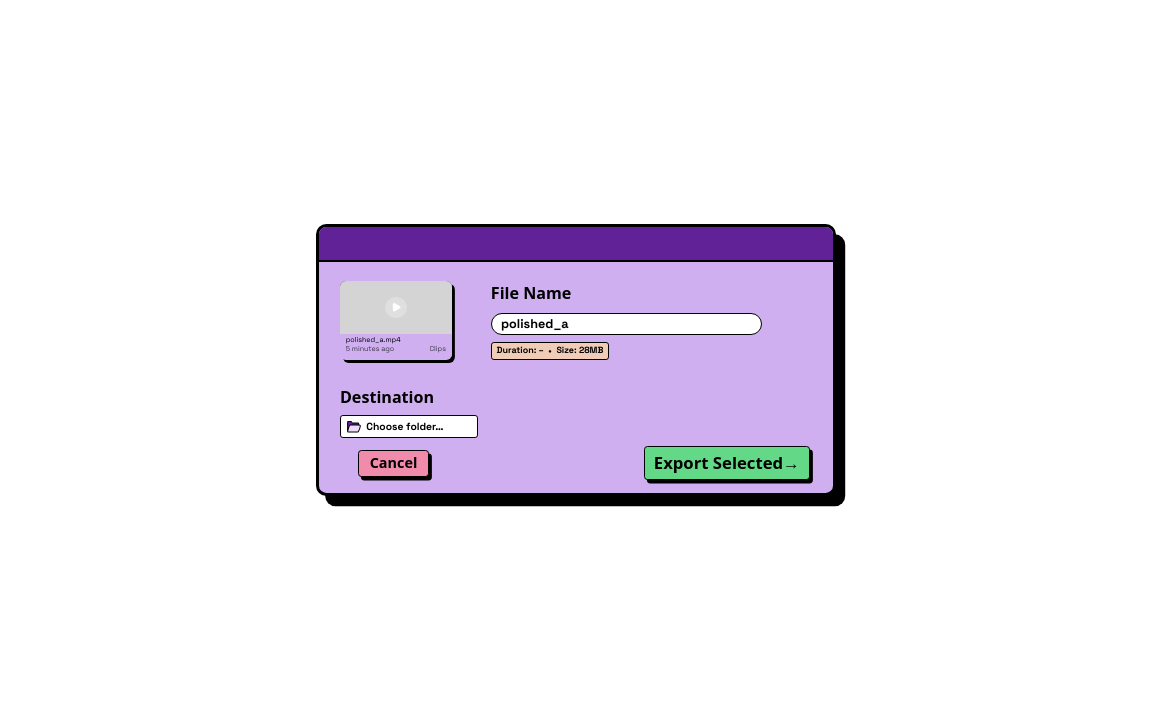
it: export dialog › stops and explains when a file with that name already exists
What coordinates should you click on to do the following:
click the button "Choose folder…"
I would click on:
 (409, 427)
Its box is [340,415,478,438].
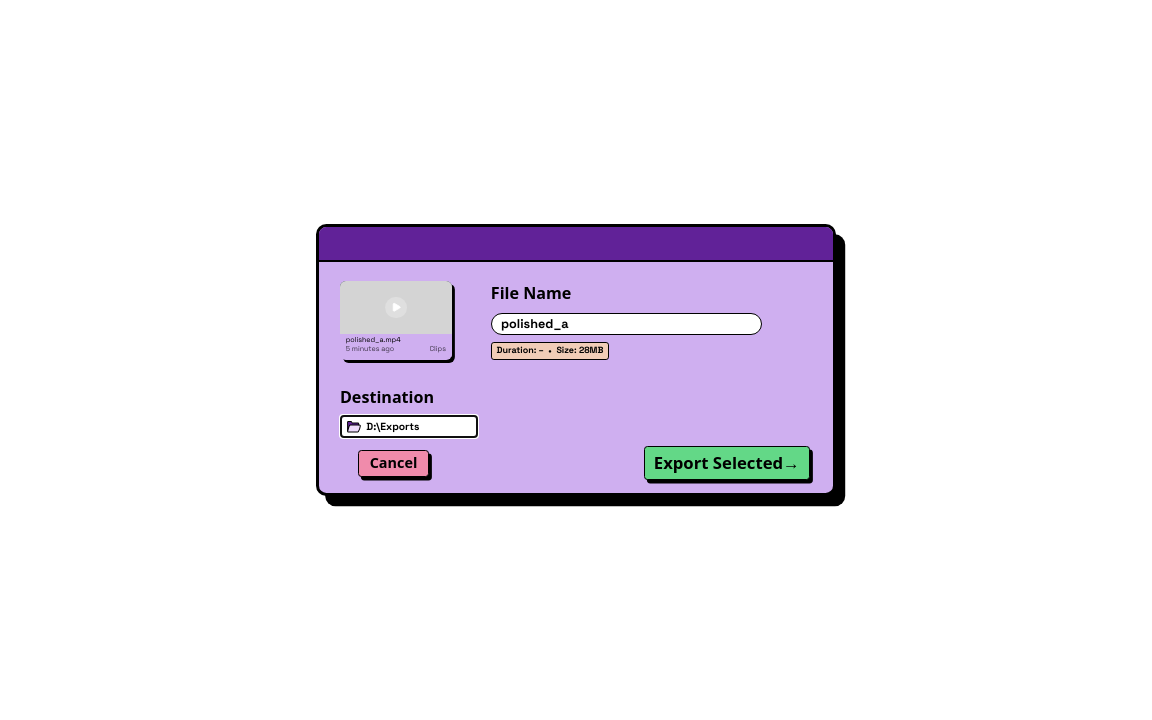
What coordinates should you click on to do the following:
click the button "Export Selected→"
I would click on:
 (727, 463)
Its box is [644,446,810,480].
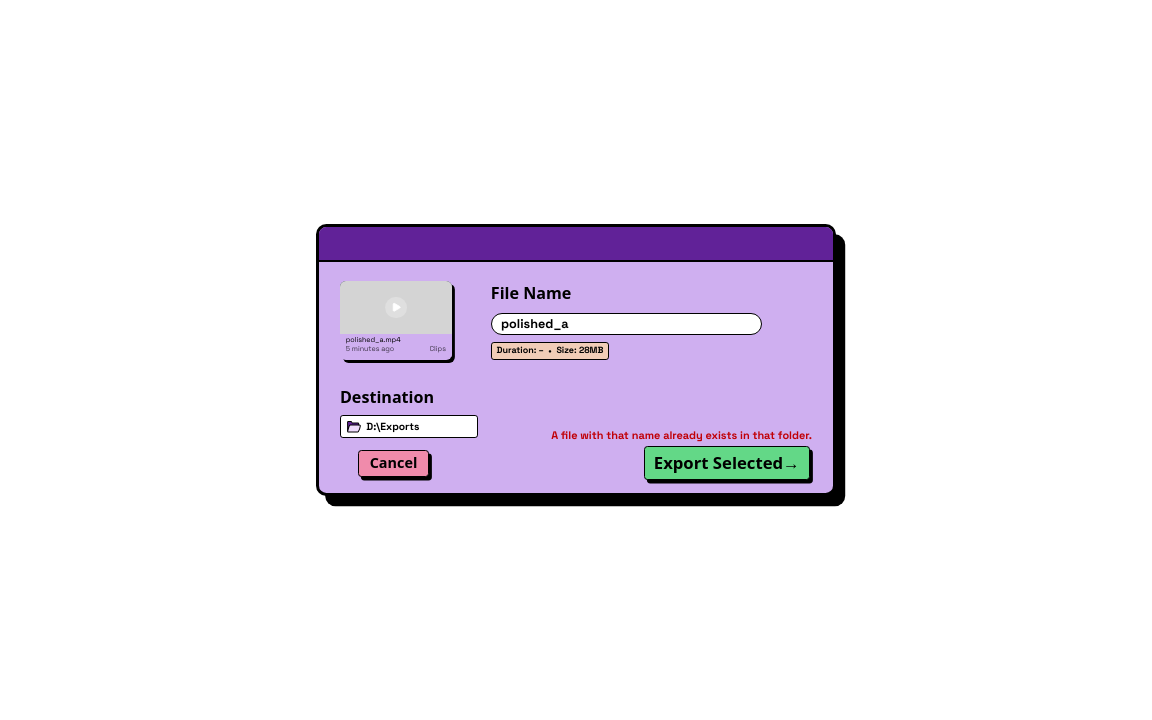
Check: the text "A file with that name already exists in that folder." is shown, box [551,427,812,444]
